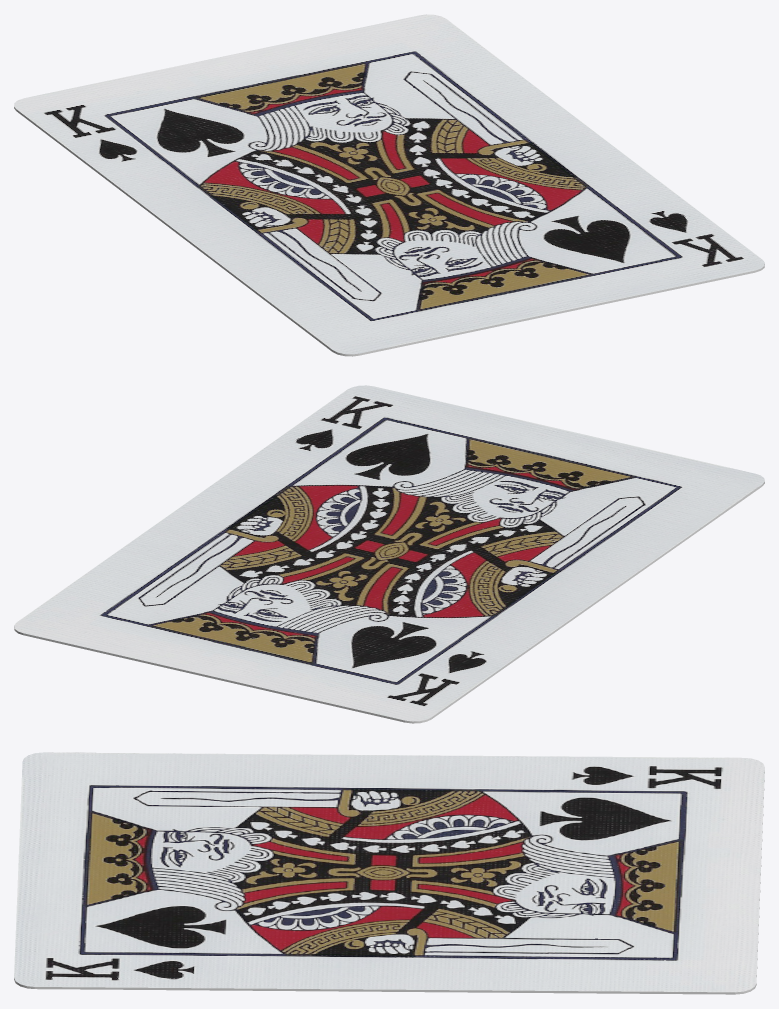
File: spadesK.fbx
3 renders of one model, top to bottom at view 1: azimuth 30°, elevation 25°; view 2: azimuth 150°, elevation 25°; view 3: azimuth 270°, elevation 25°, orthographic. The views are drawn at different scales.
Visible parts, largest first — view 1: Spades_K_5; view 2: Spades_K_5; view 3: Spades_K_5.
Boxes of the visible parts, left/top/right/bottom form: Spades_K_5: left=14, top=14, right=764, bottom=356; Spades_K_5: left=14, top=385, right=764, bottom=723; Spades_K_5: left=14, top=752, right=764, bottom=994.
Bounding box in the file's own units: 6.4 × 0.181 × 8.9.
